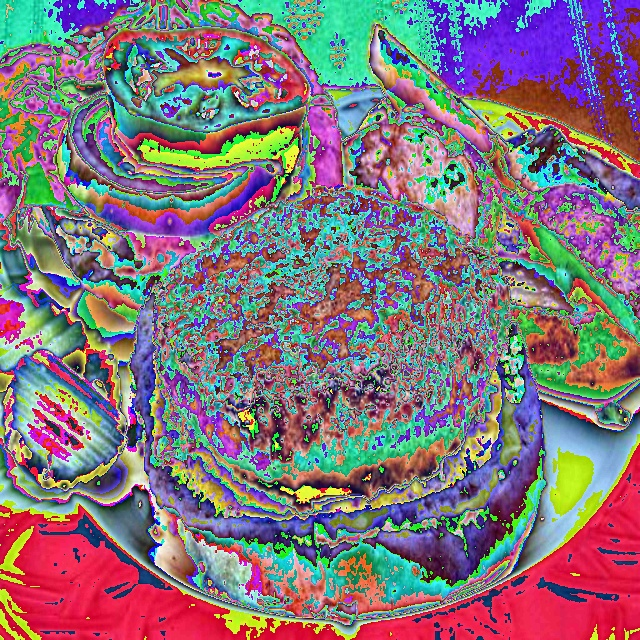background: (0, 0, 640, 625), (0, 206, 130, 491)
